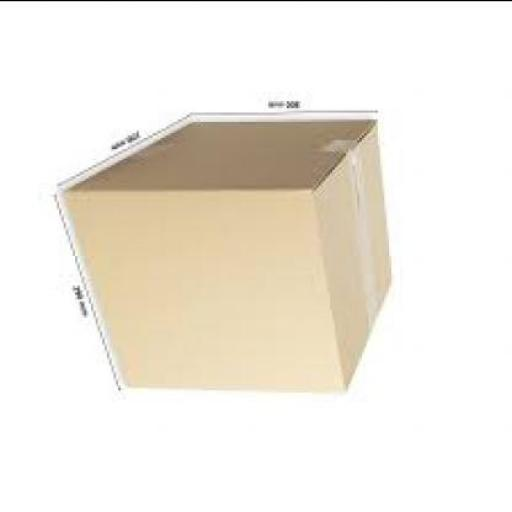cardboard: (68, 116, 396, 389)
